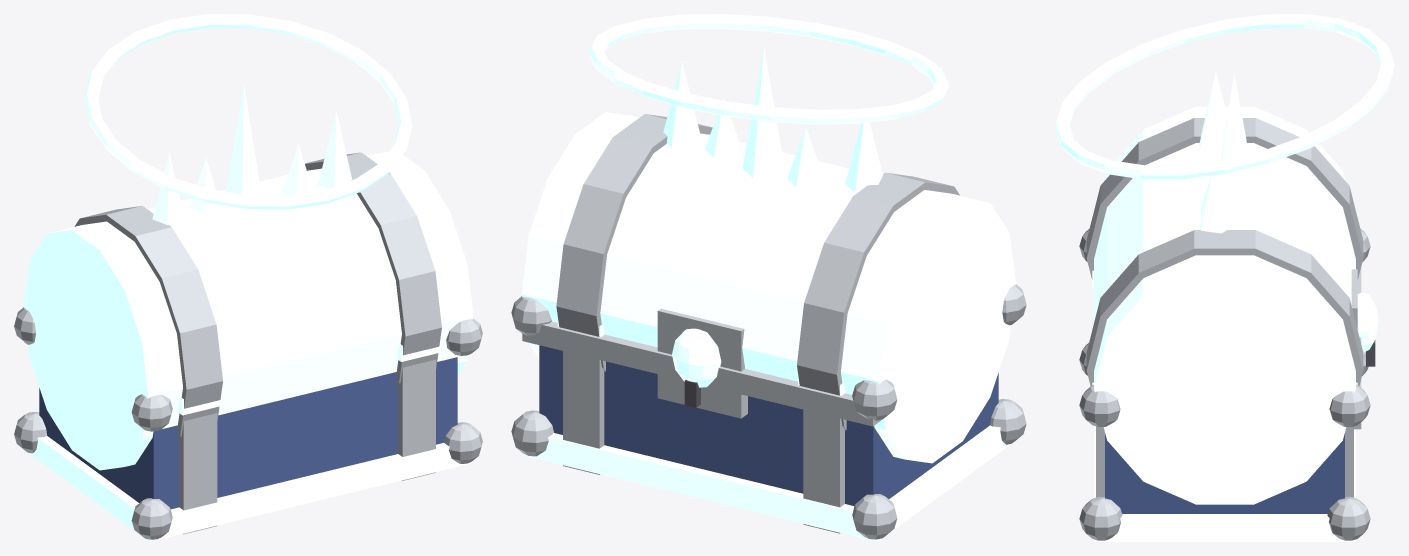
Rendered from SUPER_MAGICAL.glb.
The picture shows the model from 3 angles, left to right: view 1: azimuth 30°, elevation 25°; view 2: azimuth 150°, elevation 25°; view 3: azimuth 270°, elevation 25°; orthographic projection. The views are drawn at different scales.
Parts seen in each view (by area): view 1: Lid, Body; view 2: Lid, Body; view 3: Lid, Body.
Boxes of the visible parts, left/top/right/bottom form: Lid: left=23, top=14, right=473, bottom=470; Body: left=14, top=307, right=482, bottom=541; Lid: left=522, top=14, right=1015, bottom=463; Body: left=511, top=284, right=1026, bottom=541; Lid: left=1055, top=14, right=1394, bottom=504; Body: left=1079, top=229, right=1370, bottom=541.
Bounding box in the file's own units: 2.72 × 2.88 × 2.21.
